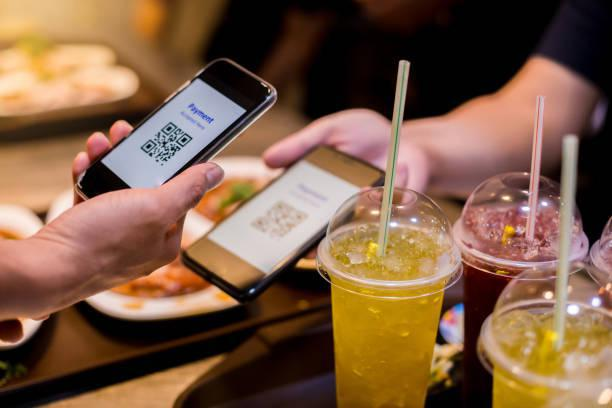Finder pattern: (160, 119, 178, 137), (175, 132, 193, 149), (139, 138, 158, 154)
